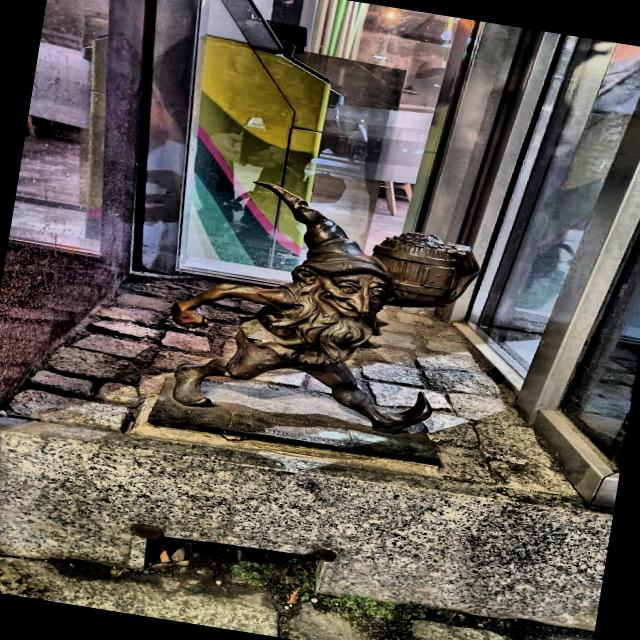Leprykonus: (146, 164, 504, 456)
